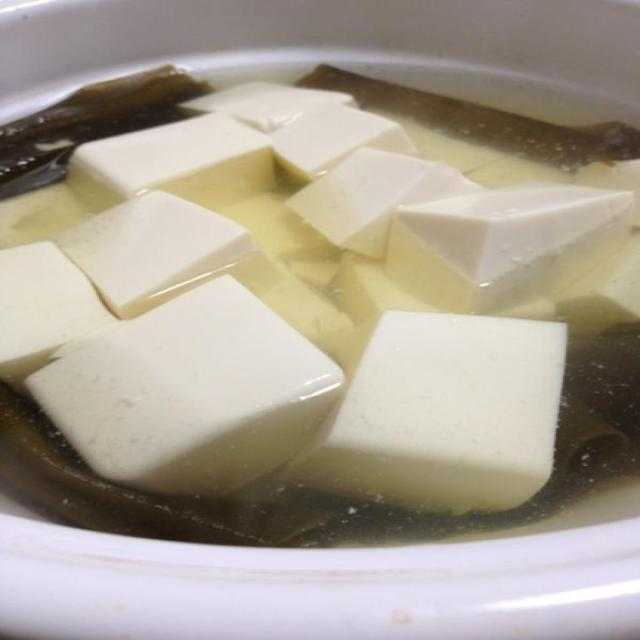豆腐料理: (6, 16, 633, 594)
